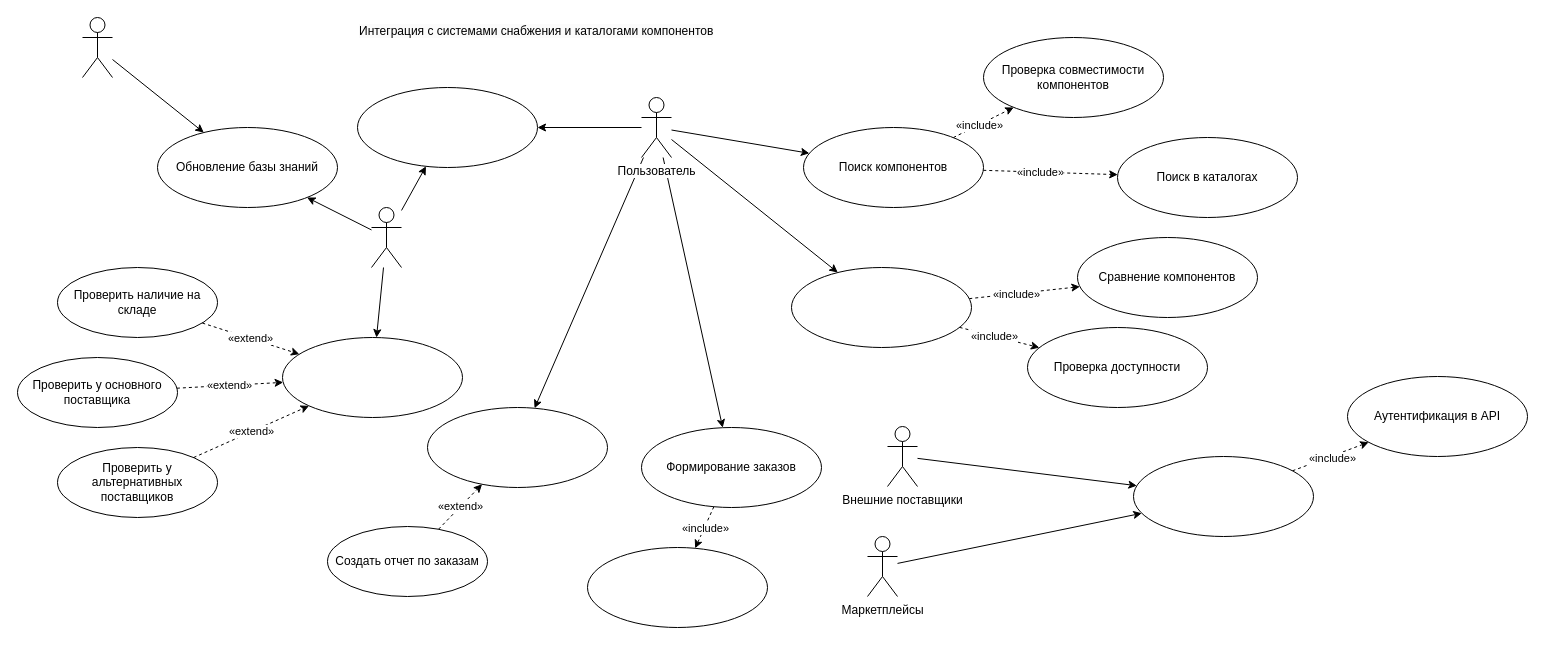
This 1545x645 diagram has some shape labels left out. Here are the shapes that lost their labels. From the top down, the box of each, then its label:
(82, 16, 112, 78): Система отчетности
(356, 86, 538, 168): Обработка запросов на компоненты
(370, 206, 402, 268): Система диагностики
(790, 266, 972, 348): Сравнение предложений
(282, 336, 462, 418): Проверка доступности и сроков
(426, 406, 608, 488): Отслеживание заказов
(1132, 456, 1314, 536): Интеграция с внешними каталогами
(586, 546, 768, 628): Проверка валидности заказа
